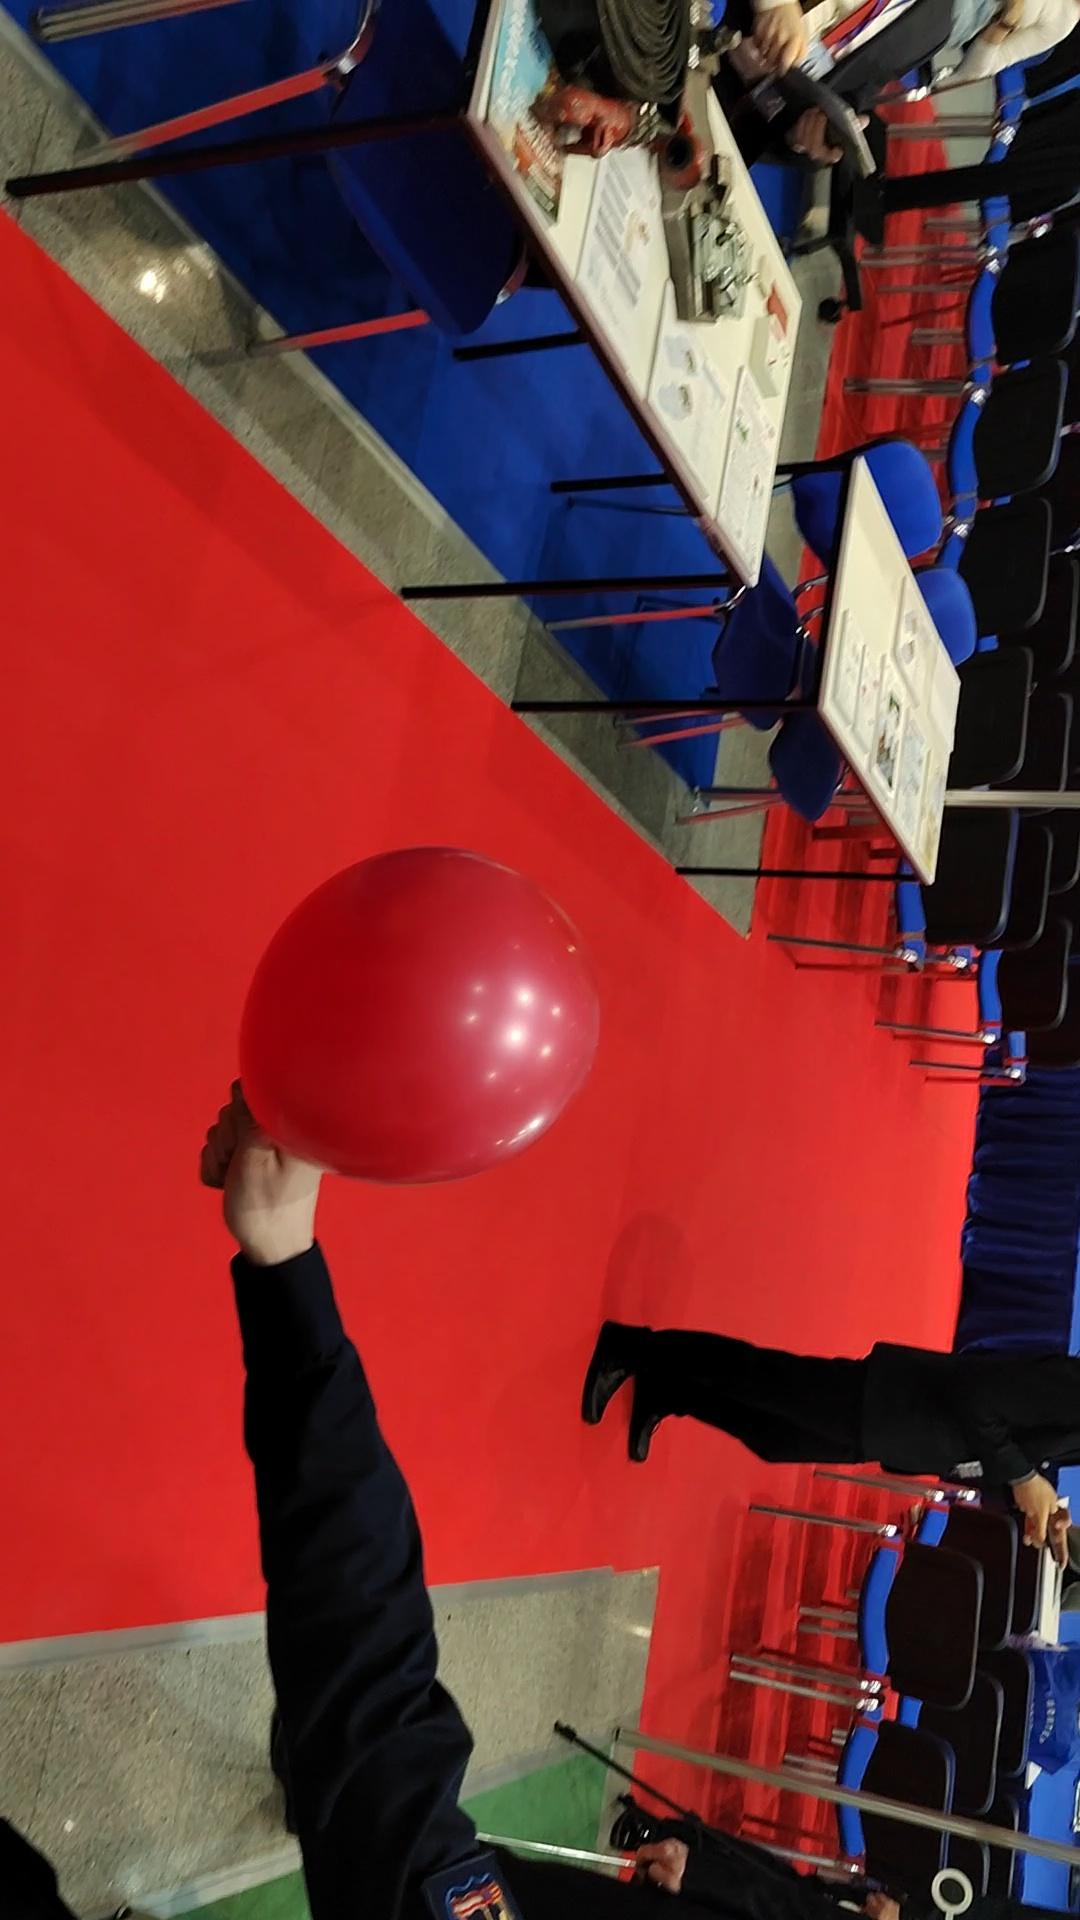red: (229, 837, 597, 1187)
